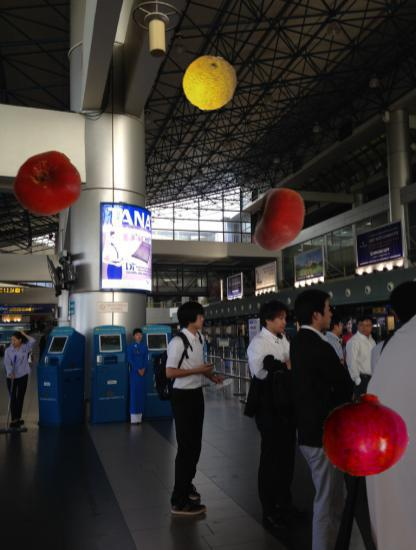Cantaloupe: (182, 55, 238, 111)
Nectarine: (14, 151, 82, 219), (247, 187, 314, 254)
Pomegranate: (322, 391, 410, 479)
